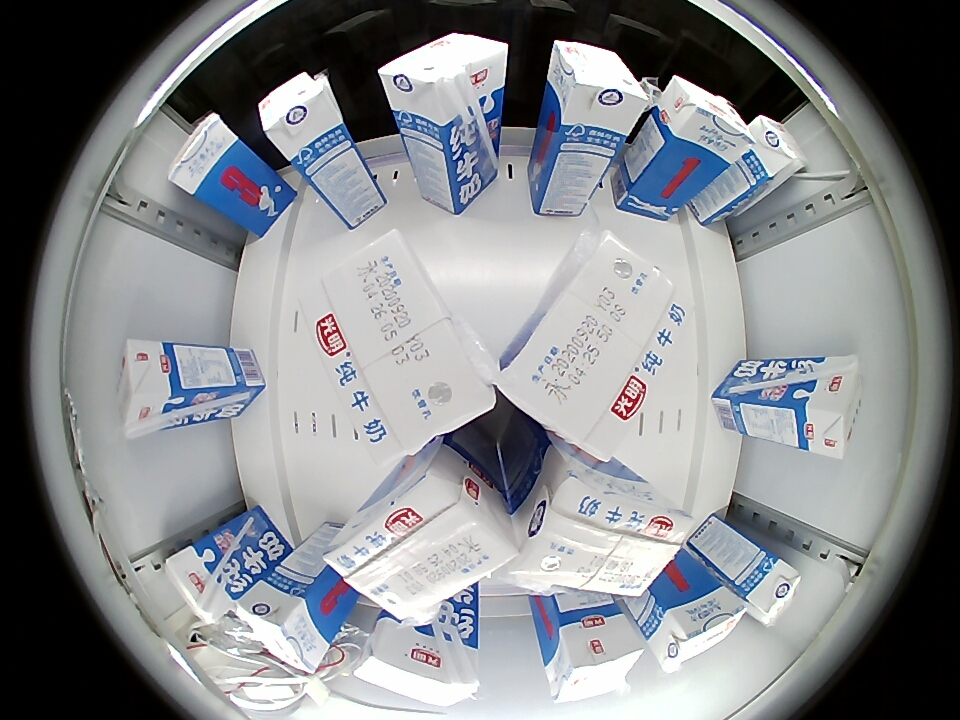niunai: (500, 226, 689, 460), (311, 231, 497, 461), (321, 445, 516, 619), (508, 449, 694, 599), (378, 32, 507, 123), (351, 617, 481, 707), (546, 41, 651, 141), (237, 576, 328, 675), (655, 74, 755, 163), (544, 616, 646, 703), (650, 584, 747, 674), (788, 356, 862, 459), (118, 340, 188, 439), (167, 111, 243, 201), (258, 69, 337, 155), (164, 537, 236, 629), (745, 550, 802, 626), (747, 114, 808, 185)
